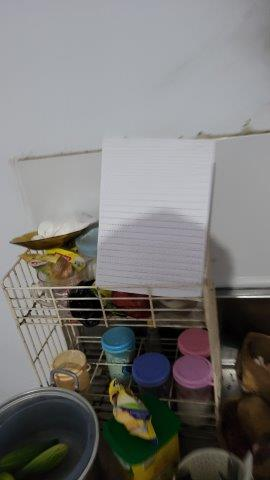kertas: (94, 137, 216, 301)
